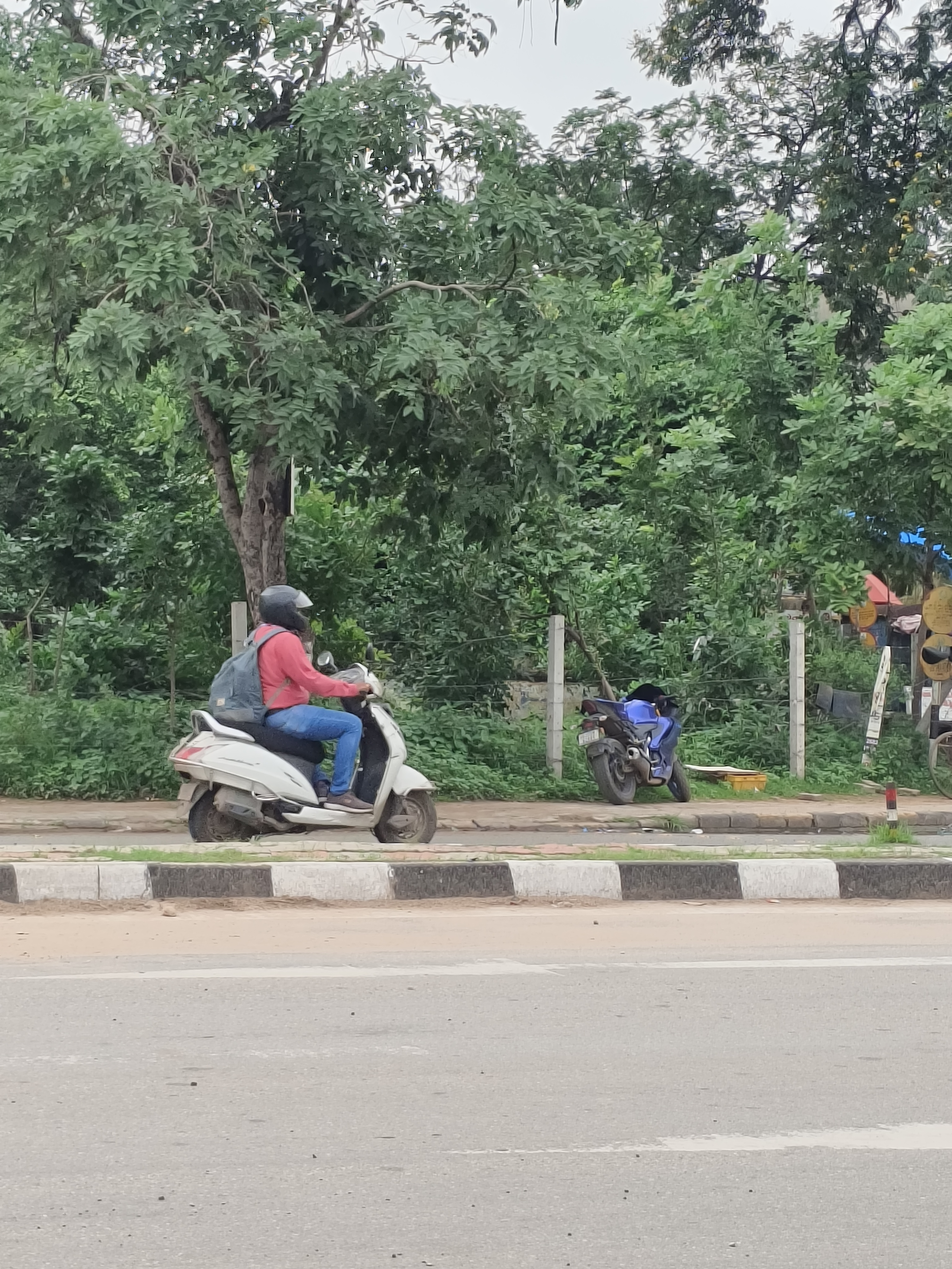BikeWithRider: (144, 556, 464, 876)
Helmet: (241, 578, 334, 644)
